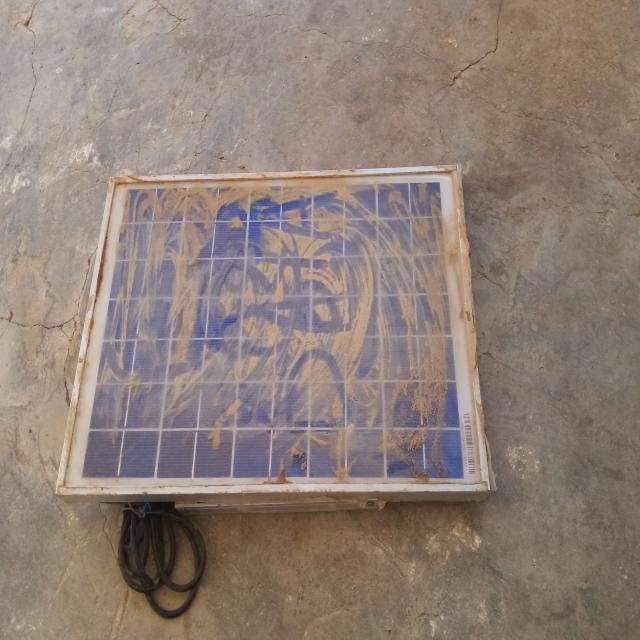faulty: (60, 168, 492, 494)
